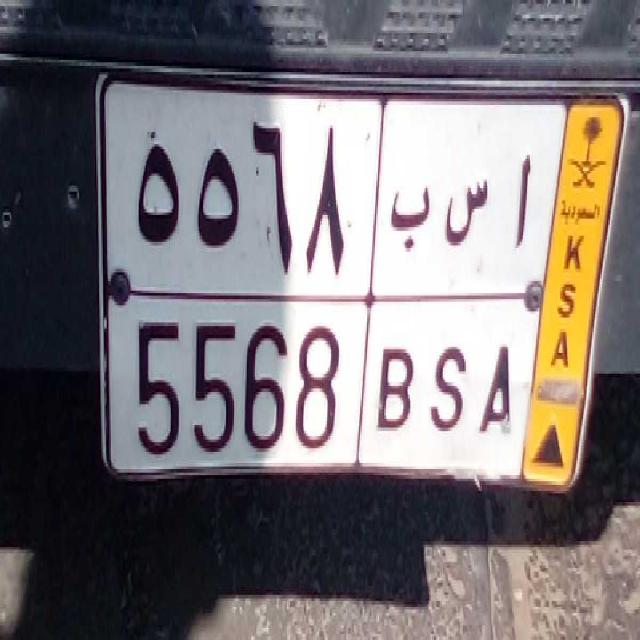license_plate: (124, 293, 537, 468)
